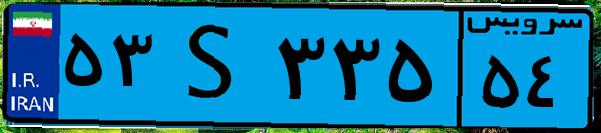3: (270, 28, 330, 110), (330, 28, 385, 110), (110, 28, 158, 98)
4: (525, 38, 570, 115)
5: (385, 28, 445, 110), (57, 26, 110, 100), (475, 38, 525, 113)
S: (158, 12, 270, 120)
